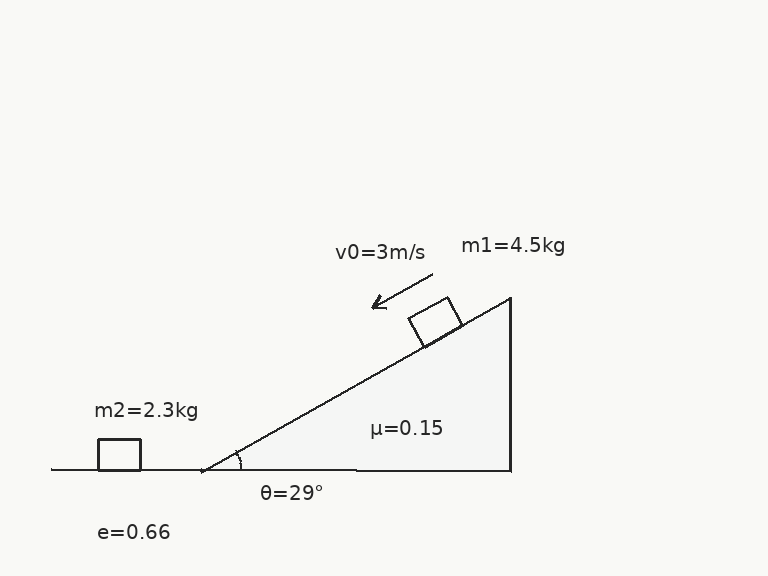block: (406, 295, 464, 348), (96, 437, 142, 472)
ramp: (199, 296, 513, 472)
